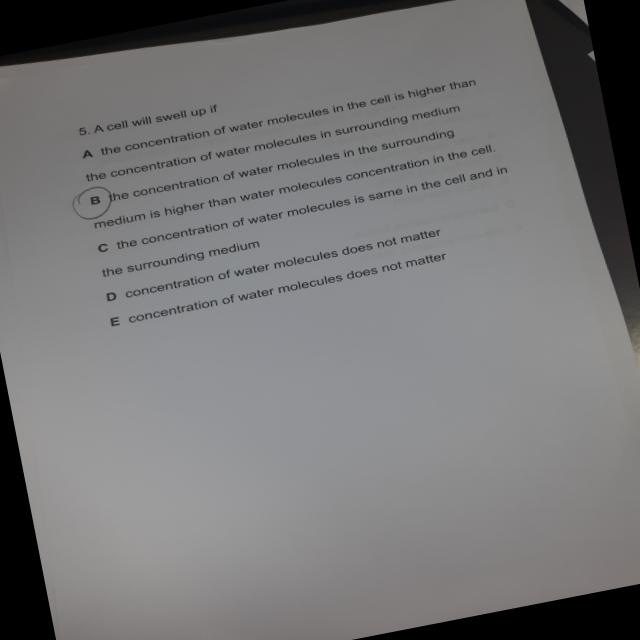B: (70, 184, 120, 224)
